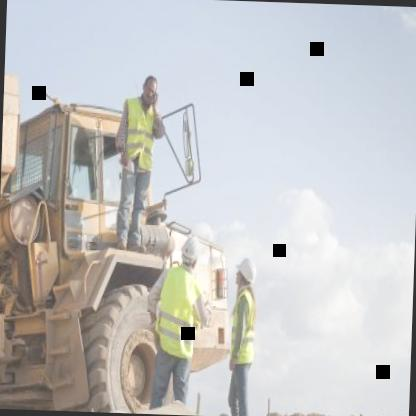head: (139, 72, 159, 108)
helmet: (176, 238, 204, 274), (234, 253, 258, 290)
